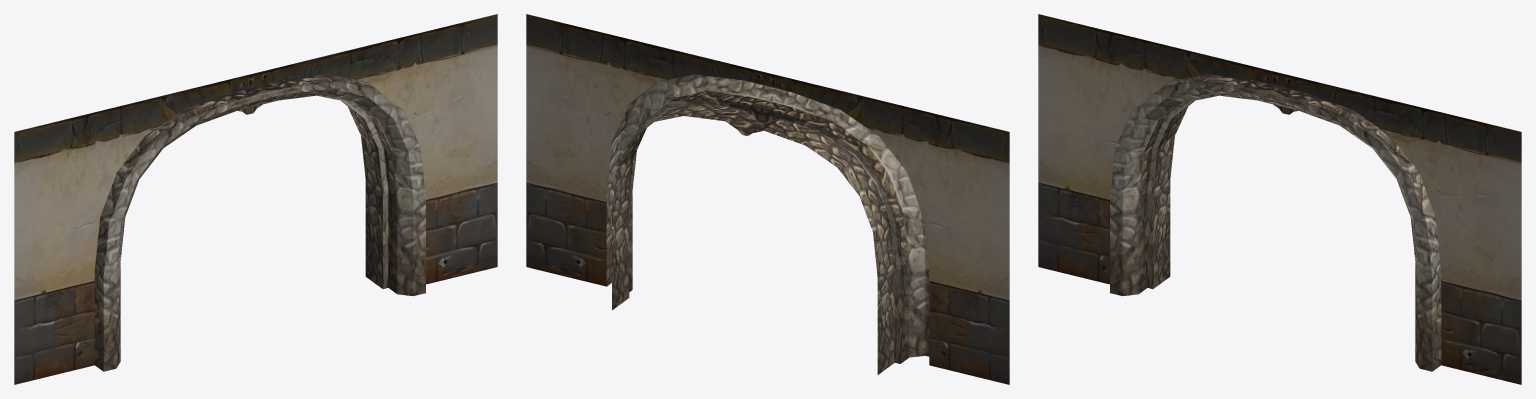
Rendered from wall_tunnel.FBX.
3 renders of one model, left to right at view 1: azimuth 30°, elevation 25°; view 2: azimuth 150°, elevation 25°; view 3: azimuth 330°, elevation 25°, orthographic.
Parts seen in each view (by area): view 1: wall_tunnel; view 2: wall_tunnel; view 3: wall_tunnel.
Boxes of the visible parts, x1,y1,x2,y2 form: wall_tunnel: (14, 14, 497, 384); wall_tunnel: (526, 14, 1009, 384); wall_tunnel: (1038, 14, 1521, 384).
Bounding box in the file's own units: 540 × 270 × 62.09.
